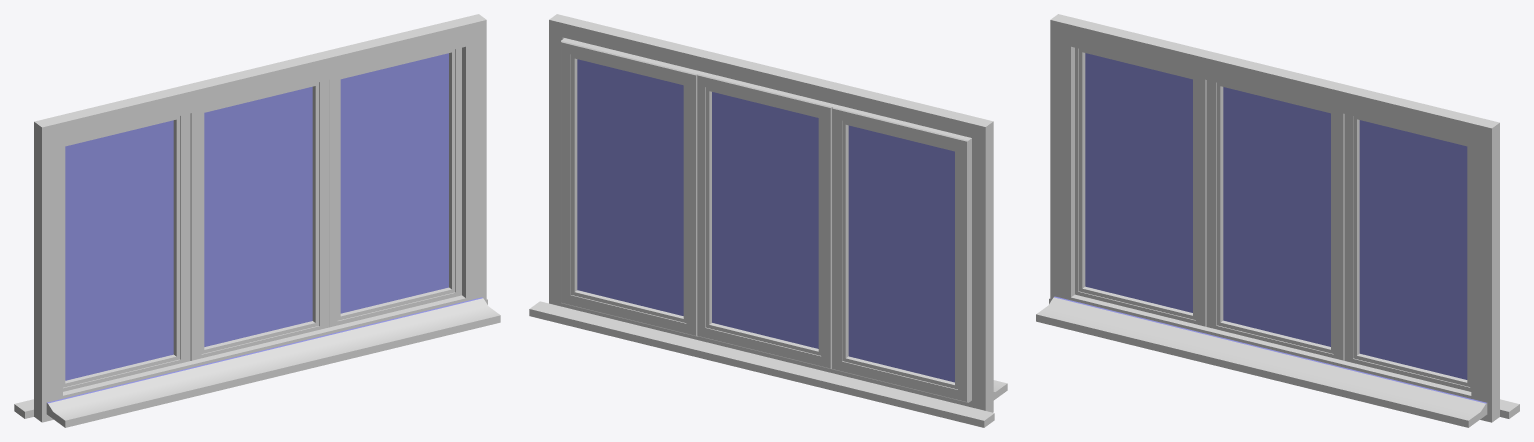
Rendered from window-small.fbx.
3 renders of one model, left to right at view 1: azimuth 30°, elevation 25°; view 2: azimuth 150°, elevation 25°; view 3: azimuth 330°, elevation 25°, orthographic.
Parts seen in each view (by area): view 1: Window, Window Panel.001, Window Panel, Window Panel.002; view 2: Window Panel.002, Window Panel, Window Panel.001, Window; view 3: Window, Window Panel.001, Window Panel.002, Window Panel.
Boxes of the visible parts, left/top/right/bottom form: Window: left=14, top=14, right=500, bottom=427; Window Panel.001: left=190, top=80, right=329, bottom=360; Window Panel: left=329, top=47, right=461, bottom=327; Window Panel.002: left=63, top=113, right=190, bottom=391; Window Panel.002: left=832, top=104, right=971, bottom=402; Window Panel: left=561, top=38, right=700, bottom=336; Window Panel.001: left=696, top=71, right=835, bottom=369; Window: left=529, top=14, right=1007, bottom=427; Window: left=1036, top=14, right=1519, bottom=427; Window Panel.001: left=1206, top=80, right=1344, bottom=360; Window Panel.002: left=1075, top=47, right=1206, bottom=326; Window Panel: left=1344, top=114, right=1471, bottom=391.
Size of the model in its own units: 121 by 73.71 by 17.33.
